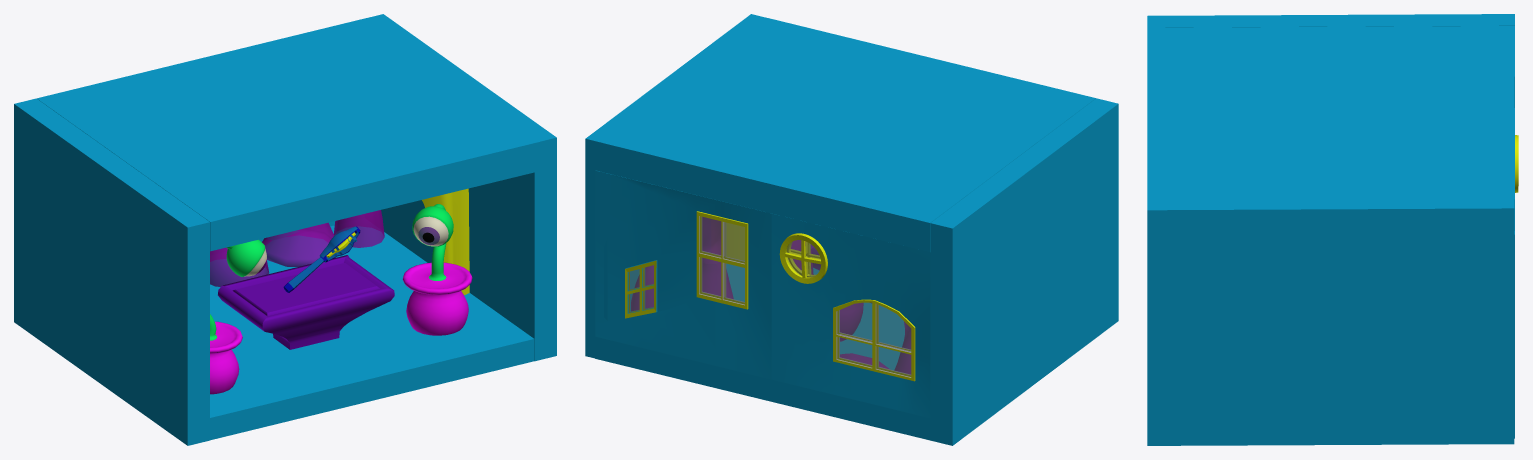
The model's file is FinalBlockout.fbx.
The picture shows the model from 3 angles, left to right: view 1: azimuth 30°, elevation 25°; view 2: azimuth 150°, elevation 25°; view 3: azimuth 270°, elevation 25°; orthographic projection. The views are drawn at different scales.
Visible parts, largest first — view 1: pCube29; view 2: pCube29; view 3: pCube29.
Part boxes in pixels (x1=…): pCube29: x1=14, y1=14, x2=556, y2=445; pCube29: x1=585, y1=14, x2=1118, y2=445; pCube29: x1=1147, y1=14, x2=1518, y2=445.
Size of the model in its own units: 271 by 154 by 217.
